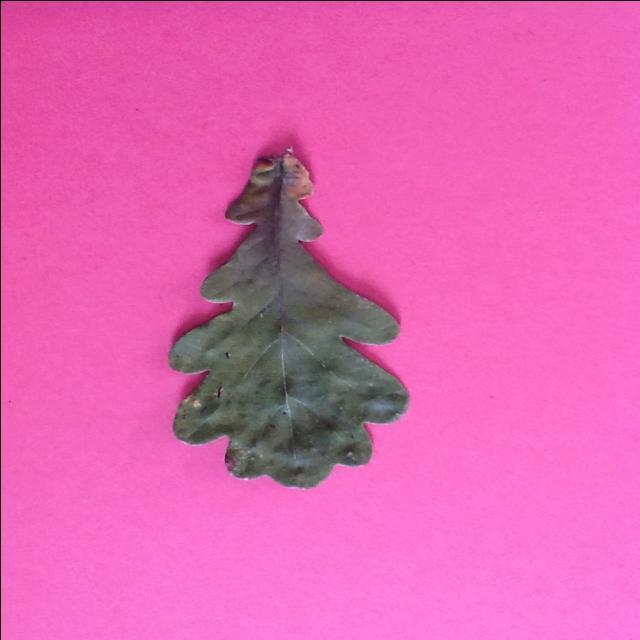foliage: (164, 143, 412, 493)
